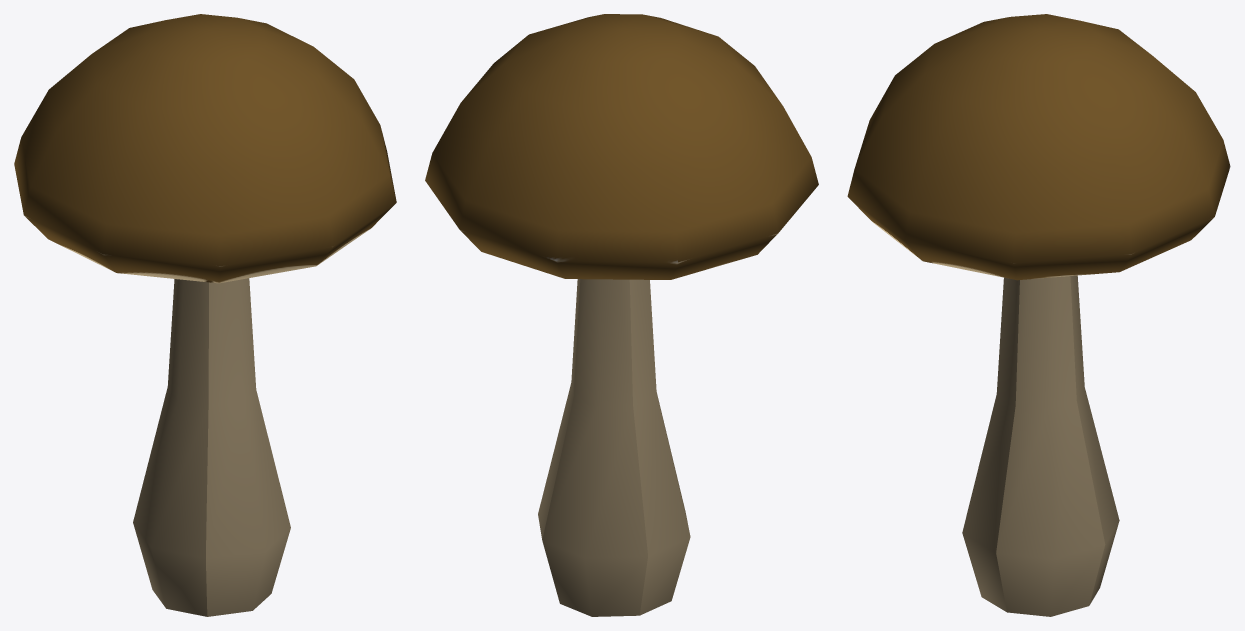
File: mushroom_4.fbx
3 views of the same model, side by side, from view 1: azimuth 30°, elevation 25°; view 2: azimuth 150°, elevation 25°; view 3: azimuth 270°, elevation 25° (orthographic).
Visible parts, largest first — view 1: mushroom_4; view 2: mushroom_4; view 3: mushroom_4.
Part boxes in pixels (box(x1,y1,x2,y2)): mushroom_4: box(14, 14, 396, 616); mushroom_4: box(425, 14, 818, 616); mushroom_4: box(847, 14, 1230, 616).
Bounding box in the file's own units: 172 × 274 × 170.
1 material, 1 textured.
